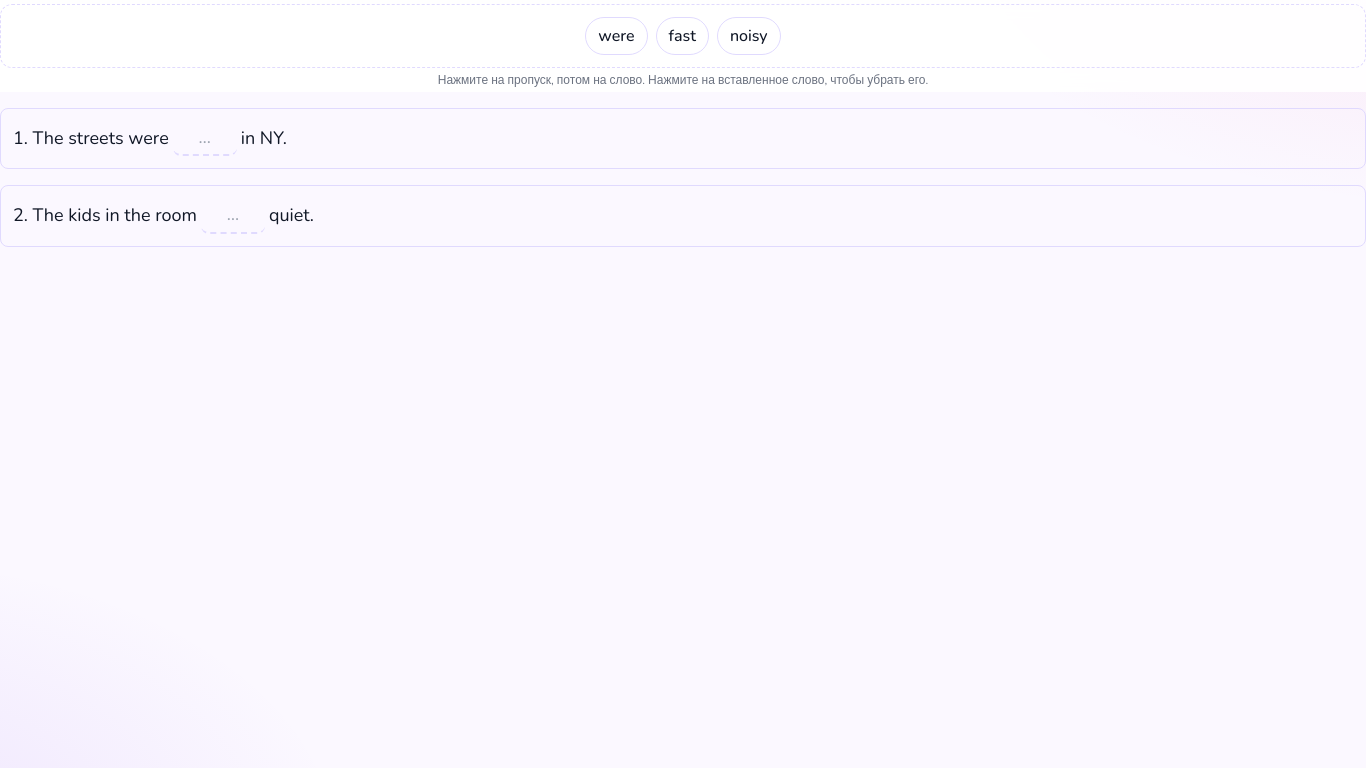
Test: WordBankExercise (homework) › puts the word into the blank you chose
Click the button named "Пропуск 1" at point(233, 216), box [201,198,265,234]
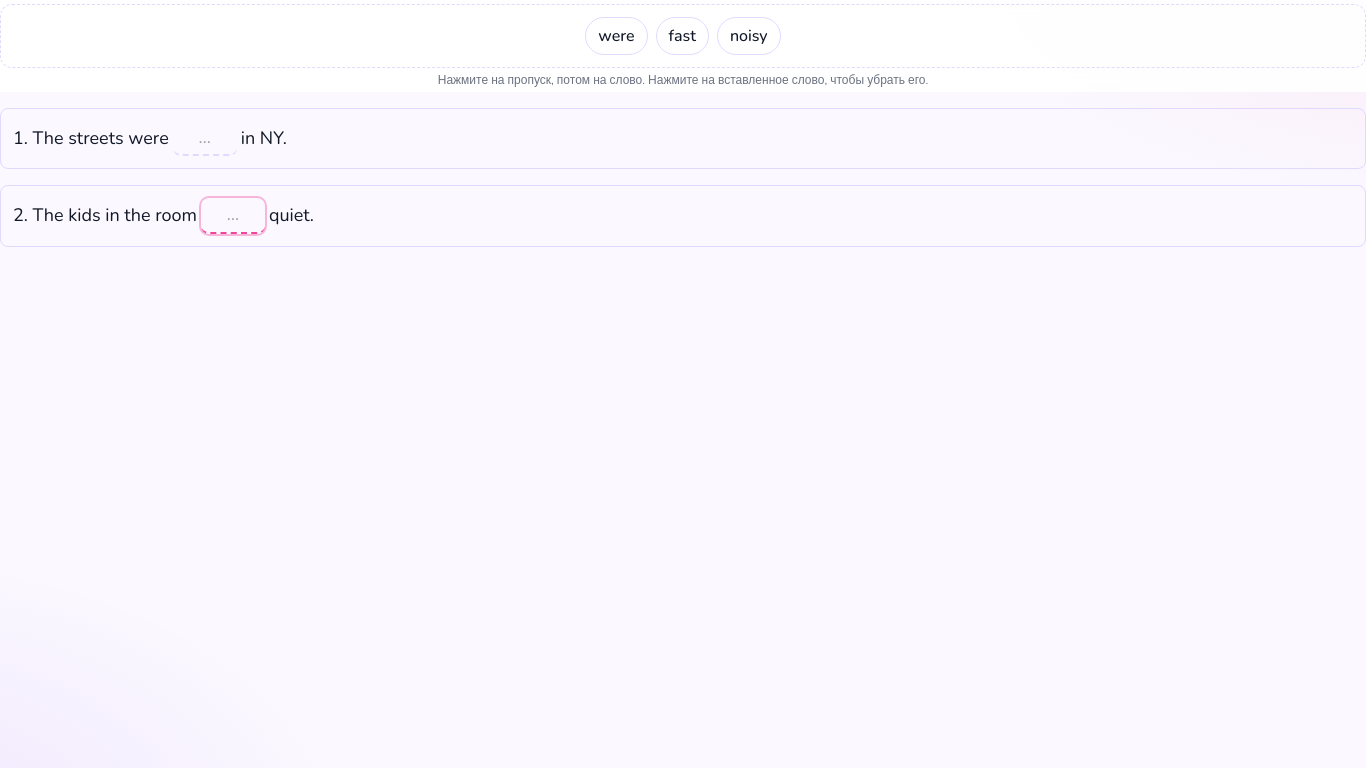
Click the button "were" at point(616, 36), box [585,17,648,55]
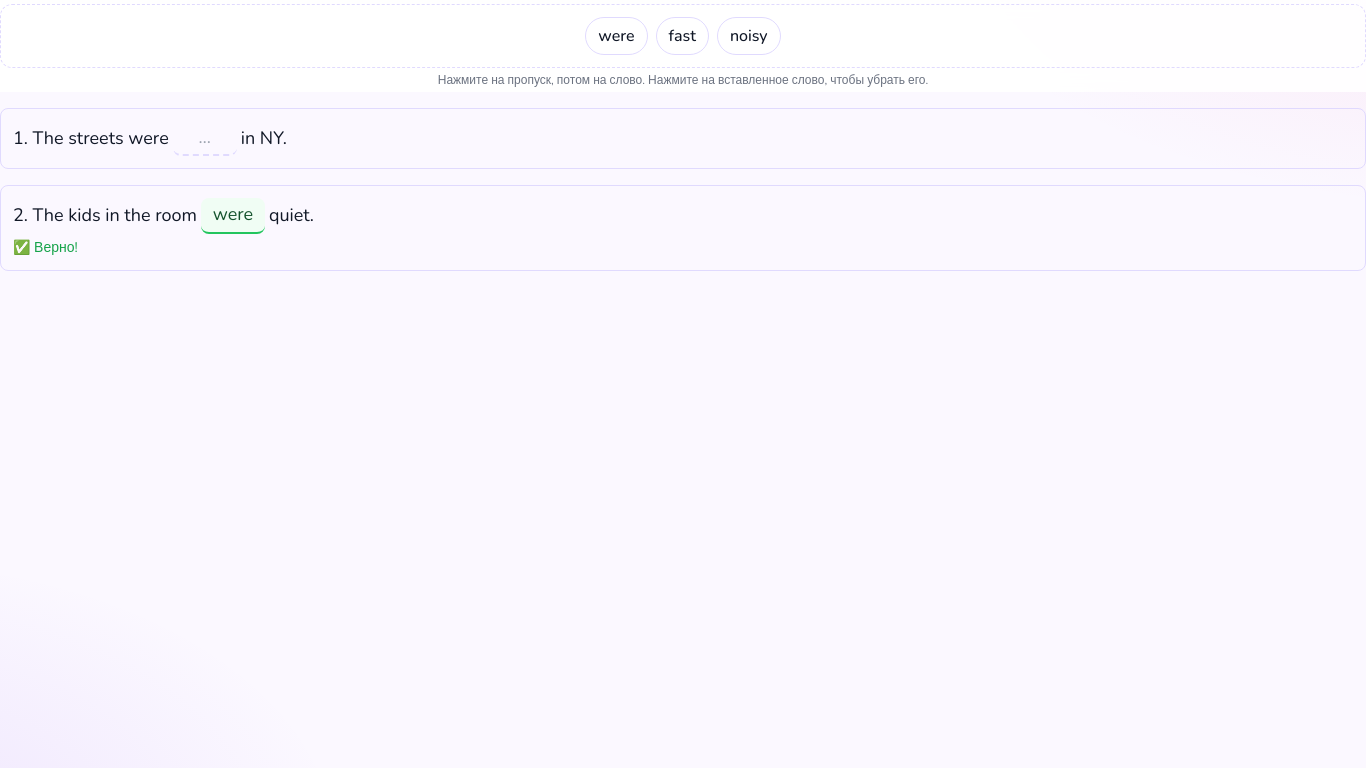
Expected: the text "✅ Верно!" is shown, [13,238,78,256]
